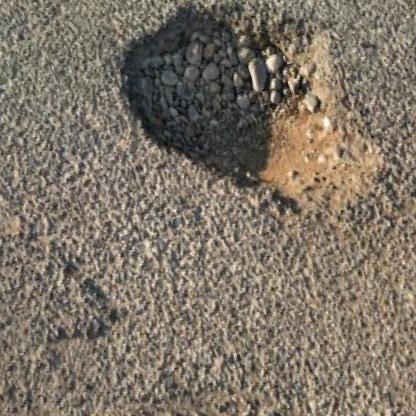pothole: (103, 0, 399, 268)
